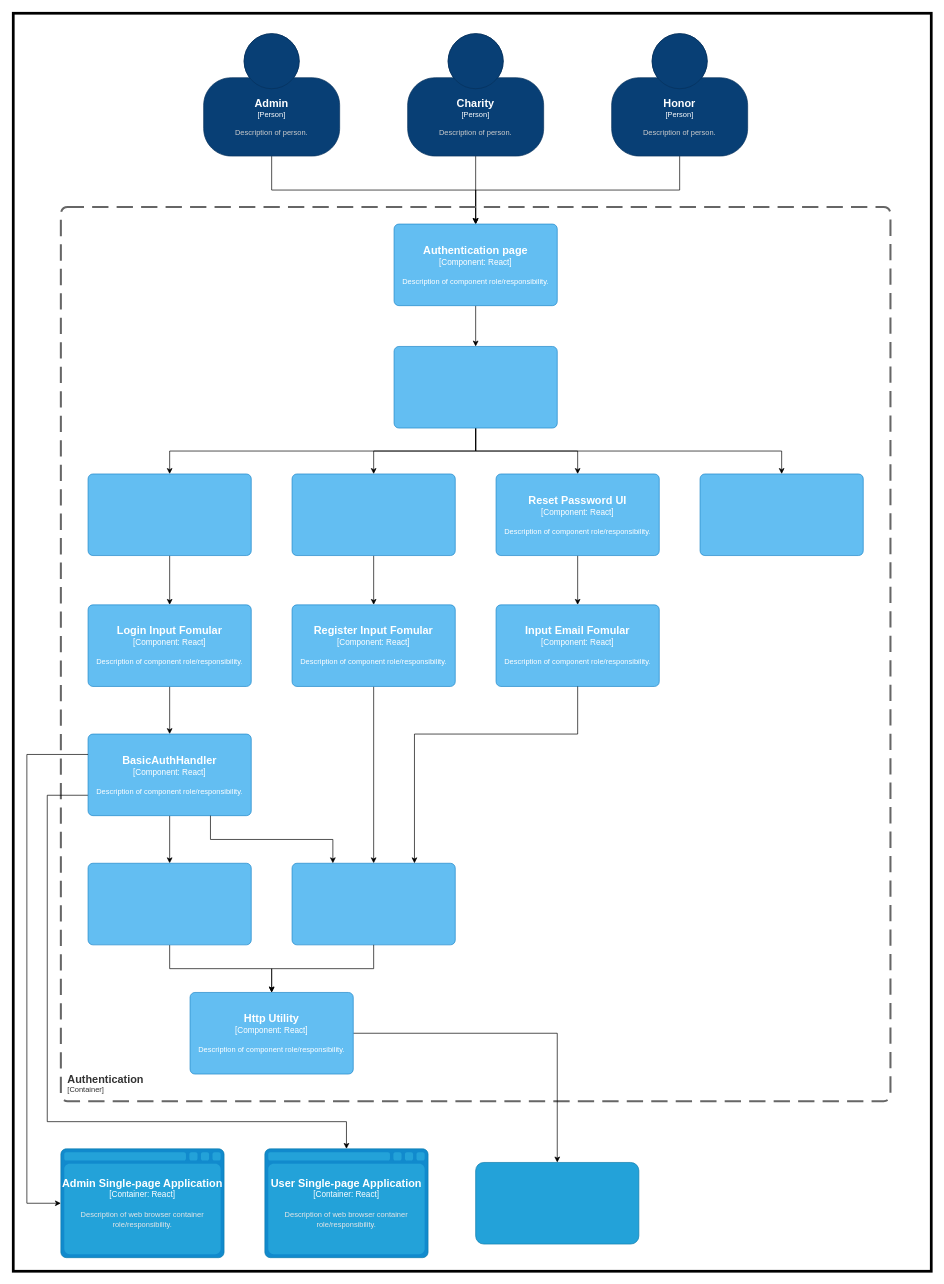
Image size: 944x1284. Some labels were removed from this diagram. The shapes that lost their labels are listed below. From the top down, each one's box as (x1, y1, x2, y2) in pixels, then its label:
(393, 346, 557, 428): Router Component [Component: React router Dom]
(87, 473, 251, 556): Login UI [Component: React] Description of component role/responsibility.
(291, 473, 455, 556): Register UI [Component: React] Description of component role/responsibility.
(699, 473, 863, 556): Logout UI [Component: React] Description of component role/responsibility.
(87, 863, 251, 945): Admin Hook [Component: React] Description of component role/responsibility.
(291, 863, 455, 945): User Hook [Component: React] Description of component role/responsibility.
(475, 1162, 639, 1244): API Gateway [Container: Node.js] Description of container role/responsibility.
